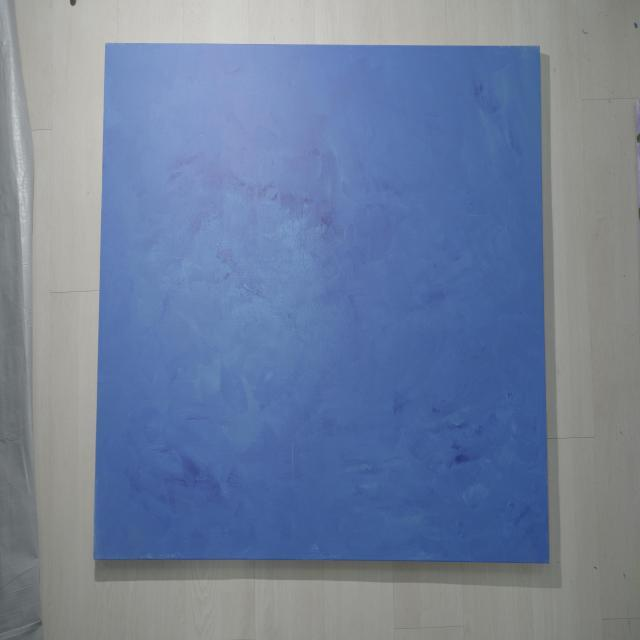painting: (94, 44, 548, 562)
